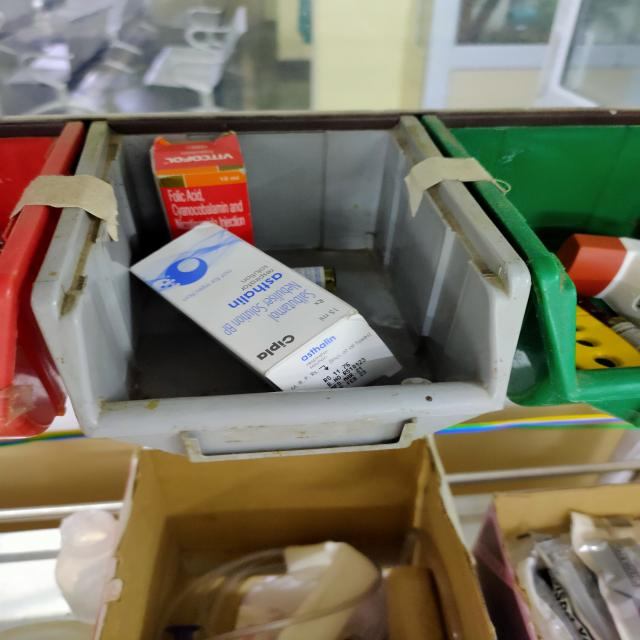B3: (130, 220, 402, 392), (149, 140, 262, 218)
